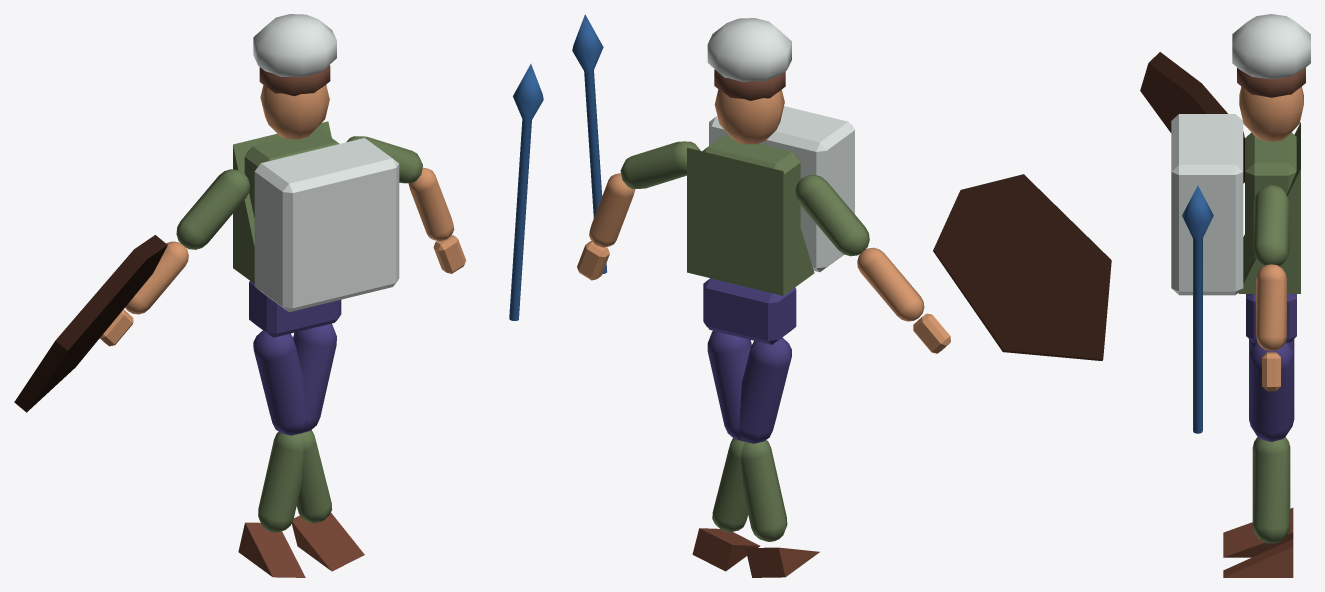
Rendered from adventurer.rustic.glb.
The picture shows the model from 3 angles, left to right: view 1: azimuth 30°, elevation 25°; view 2: azimuth 150°, elevation 25°; view 3: azimuth 270°, elevation 25°; orthographic projection.
Visible parts, largest first — view 1: accessory.body, accessory.off-hand, accessory.head, thigh.left, shin.right, accessory.main-hand, upper-arm.left, thigh.right, head, pelvis, foot.left, tunic (+8 smaller); view 2: accessory.off-hand, tunic, accessory.body, pelvis, accessory.head, thigh.left, shin.right, upper-arm.left, thigh.right, head, accessory.main-hand, forearm.left (+9 smaller); view 3: accessory.body, accessory.head, shin.left, accessory.off-hand, thigh.right, torso, accessory.main-hand, upper-arm.right, head, forearm.right, tunic, foot.left (+4 smaller).
Boxes of the visible parts, x1,y1,x2,y2 form: accessory.body: (254,138,399,312); accessory.off-hand: (14,235,167,412); accessory.head: (253,14,336,77); thigh.left: (253,330,305,435); shin.right: (258,432,303,532); accessory.main-hand: (509,64,543,320); upper-arm.left: (176,169,250,249); thigh.right: (293,323,336,433); head: (260,85,329,139); pelvis: (249,281,341,337); foot.left: (291,513,364,571); tunic: (233,121,331,283); accessory.off-hand: (933,174,1111,360); tunic: (687,147,814,295); accessory.body: (709,106,854,272); pelvis: (703,278,796,344); accessory.head: (707,18,791,82); thigh.left: (739,337,791,443); shin.right: (741,440,787,541); upper-arm.left: (795,174,869,256); thigh.right: (707,330,751,441); head: (714,89,784,144); accessory.main-hand: (572,14,607,273); forearm.left: (857,247,924,321); accessory.body: (1171,114,1243,295); accessory.head: (1232,14,1310,79); shin.left: (1252,437,1290,543); accessory.off-hand: (1140,52,1244,183); thigh.right: (1249,343,1294,441); torso: (1245,132,1296,271); accessory.main-hand: (1182,185,1213,433); upper-arm.right: (1253,185,1289,266); head: (1239,86,1303,141); forearm.right: (1256,264,1286,351); tunic: (1238,122,1300,293); foot.left: (1223,539,1293,577).
Bounding box in the file's own units: 3.26 × 3.18 × 0.9041.
